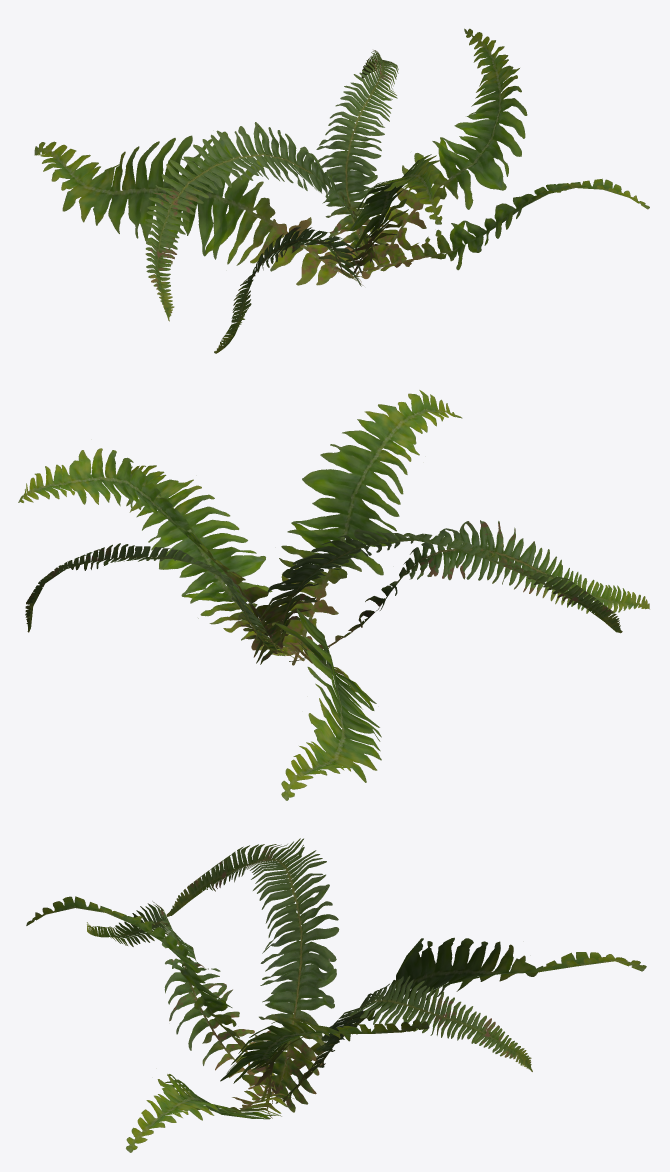
Rendered from Fern_Small_D.fbx.
The picture shows the model from 3 angles, top to bottom: view 1: azimuth 30°, elevation 25°; view 2: azimuth 150°, elevation 25°; view 3: azimuth 270°, elevation 25°; orthographic projection. The views are drawn at different scales.
Visible parts, largest first — view 1: Fern_Small_D; view 2: Fern_Small_D; view 3: Fern_Small_D.
Part boxes in pixels (box(x1,y1,x2,y2)): Fern_Small_D: box(34, 28, 649, 353); Fern_Small_D: box(18, 390, 649, 800); Fern_Small_D: box(26, 838, 646, 1152).
Bounding box in the file's own units: 0.672 × 0.25 × 0.696.
Materials: 1 (1 with a texture image).
